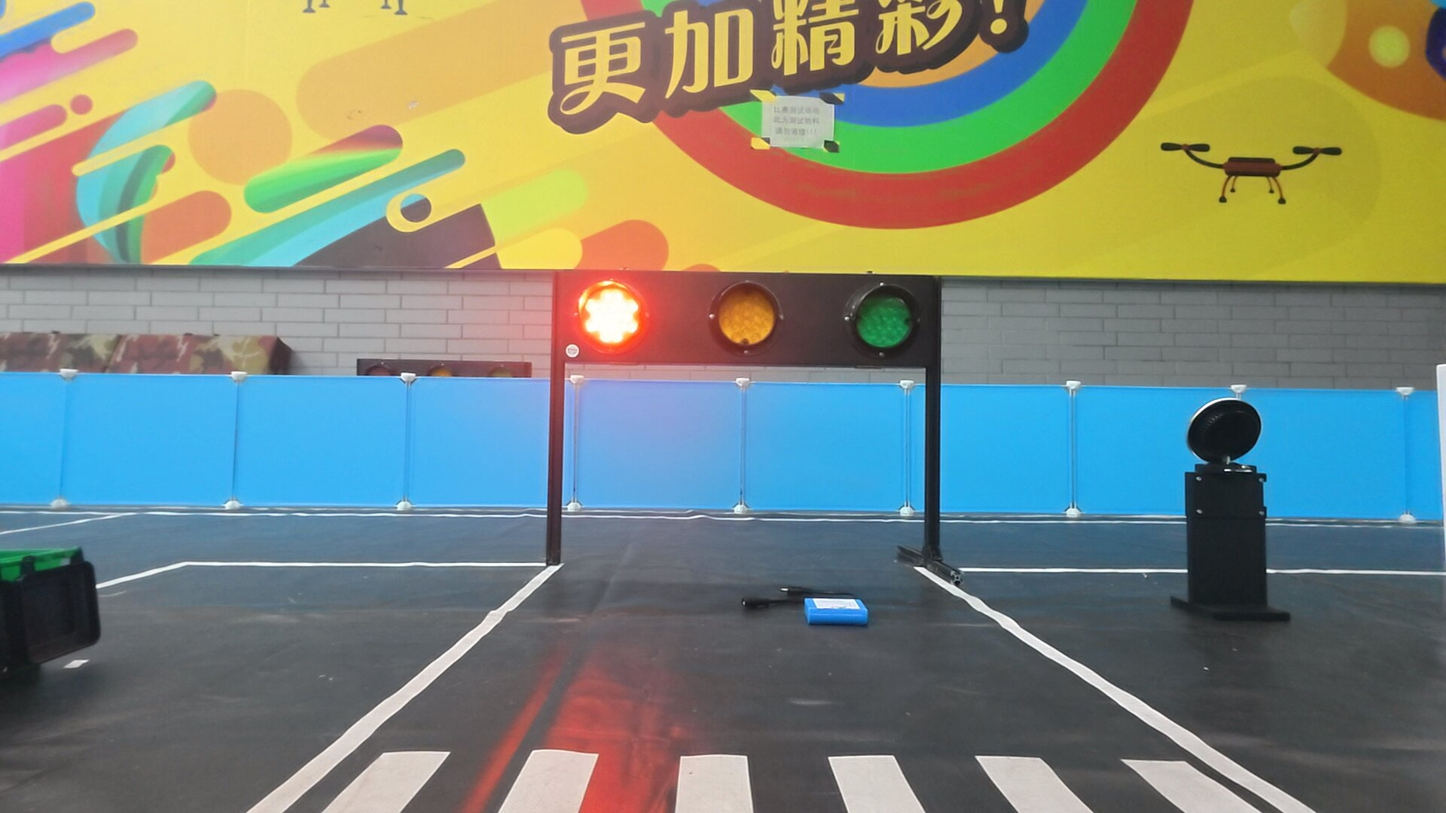stop: (574, 277, 649, 352)
